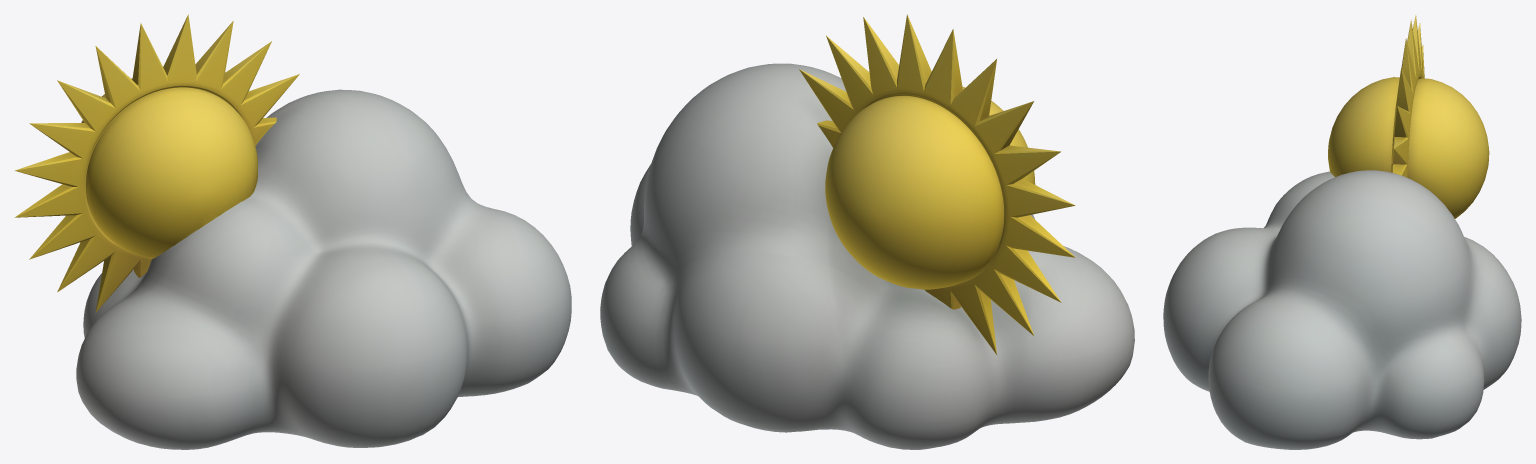
The model's file is cloud.glb.
3 renders of one model, left to right at view 1: azimuth 30°, elevation 25°; view 2: azimuth 150°, elevation 25°; view 3: azimuth 270°, elevation 25°, orthographic. The views are drawn at different scales.
Visible parts, largest first — view 1: node_id30; view 2: node_id30; view 3: node_id30.
Part boxes in pixels (bbox=[...]): node_id30: bbox=[15, 14, 571, 449]; node_id30: bbox=[600, 14, 1134, 449]; node_id30: bbox=[1163, 15, 1521, 449].
Size of the model in its own units: 0.4979 by 0.372 by 0.3917.
1 material, 1 textured.
